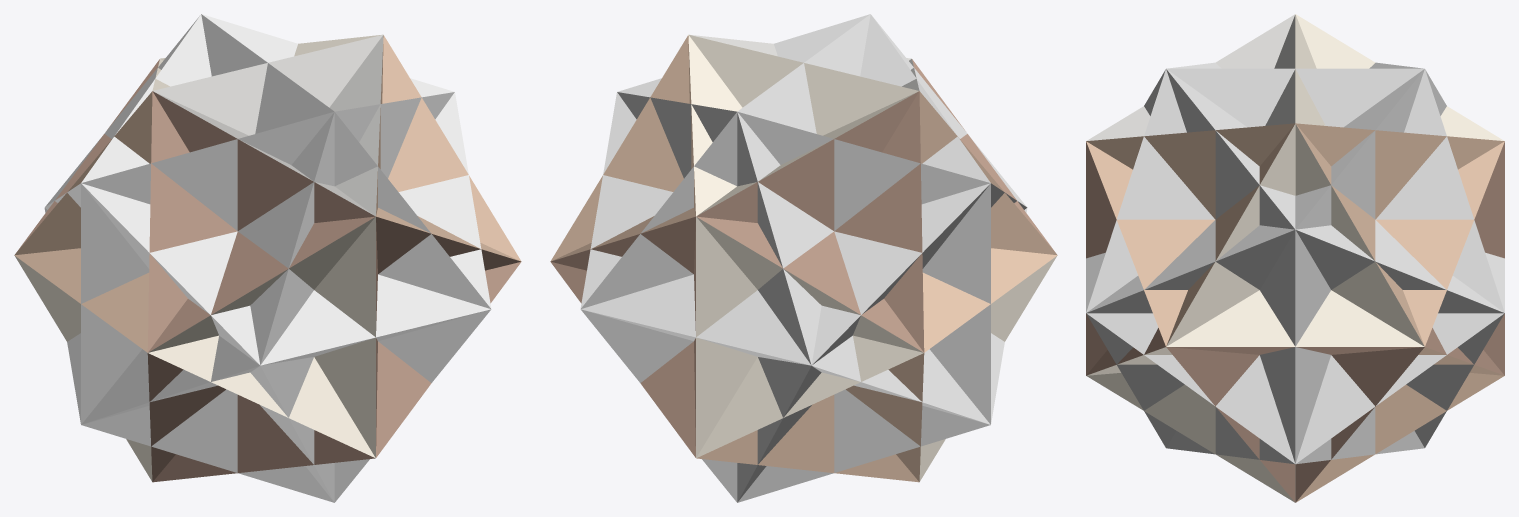
The picture shows the model from 3 angles, left to right: view 1: azimuth 30°, elevation 25°; view 2: azimuth 150°, elevation 25°; view 3: azimuth 270°, elevation 25°; orthographic projection. The views are drawn at different scales.
Visible parts, largest first — view 1: Great_Dodecahedron_Solid, Great_Dodecahedron_From_OBJ; view 2: Great_Dodecahedron_Solid, Great_Dodecahedron_From_OBJ; view 3: Great_Dodecahedron_Solid, Great_Dodecahedron_From_OBJ.
Boxes of the visible parts, left/top/right/bottom form: Great_Dodecahedron_Solid: left=44, top=14, right=491, bottom=502; Great_Dodecahedron_From_OBJ: left=14, top=34, right=521, bottom=482; Great_Dodecahedron_Solid: left=580, top=14, right=1027, bottom=502; Great_Dodecahedron_From_OBJ: left=550, top=34, right=1057, bottom=482; Great_Dodecahedron_Solid: left=1086, top=62, right=1504, bottom=464; Great_Dodecahedron_From_OBJ: left=1086, top=14, right=1504, bottom=502.
Size of the model in its own units: 3.24 by 3.24 by 3.24.
